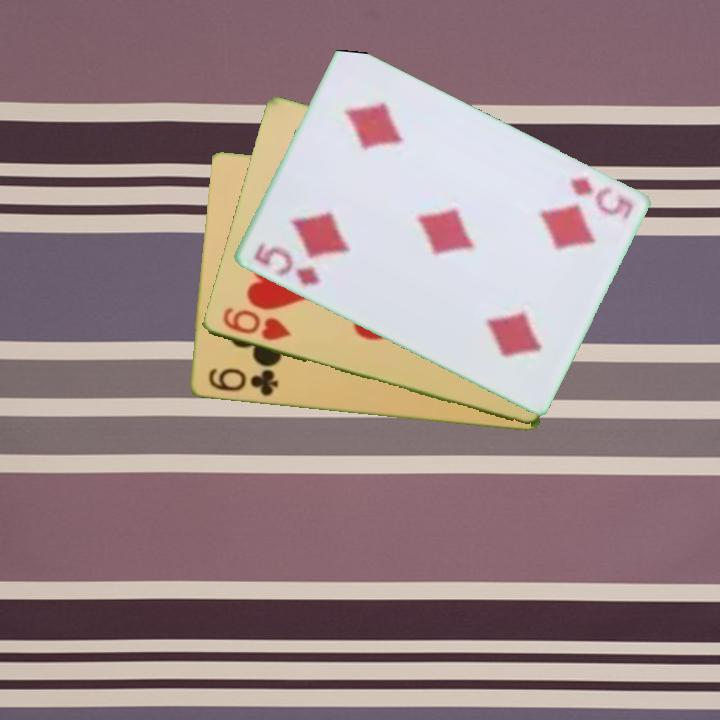5d: (250, 238, 324, 289), (566, 173, 636, 223)
6c: (205, 365, 280, 400)
6h: (218, 304, 293, 344)
